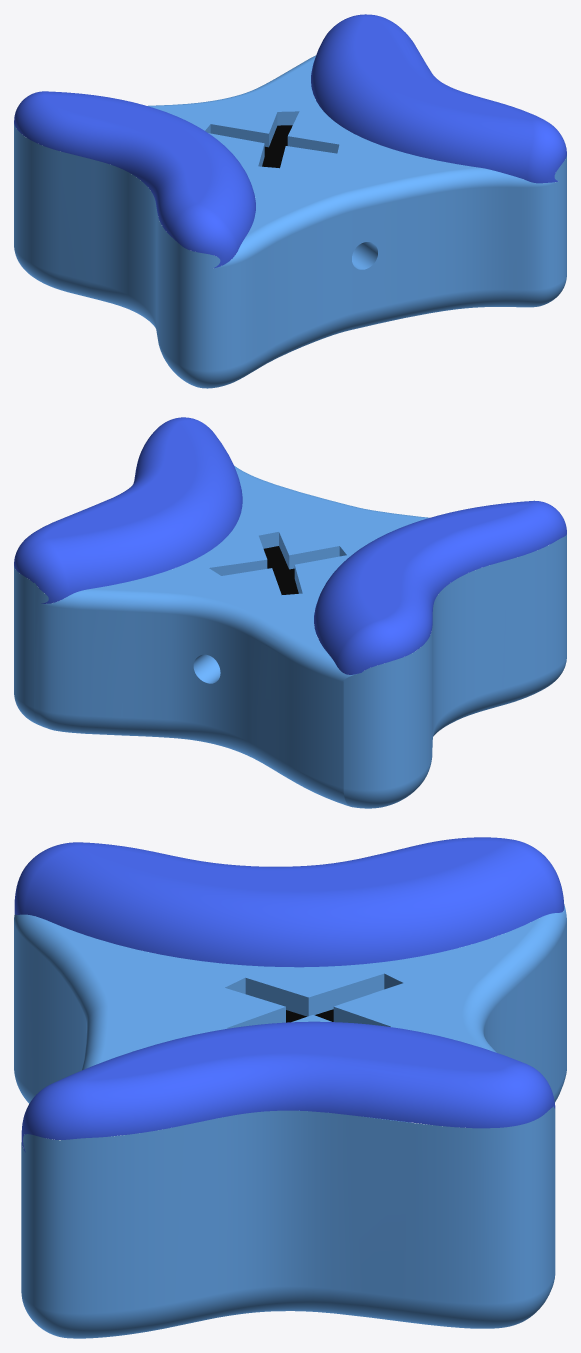
Rendered from Blue thingy - geen knip.glb.
3 views of the same model, one above another, from view 1: azimuth 30°, elevation 25°; view 2: azimuth 150°, elevation 25°; view 3: azimuth 270°, elevation 25° (orthographic). The views are drawn at different scales.
Bounding box in the file's own units: 0.0303 × 0.013 × 0.0257.
